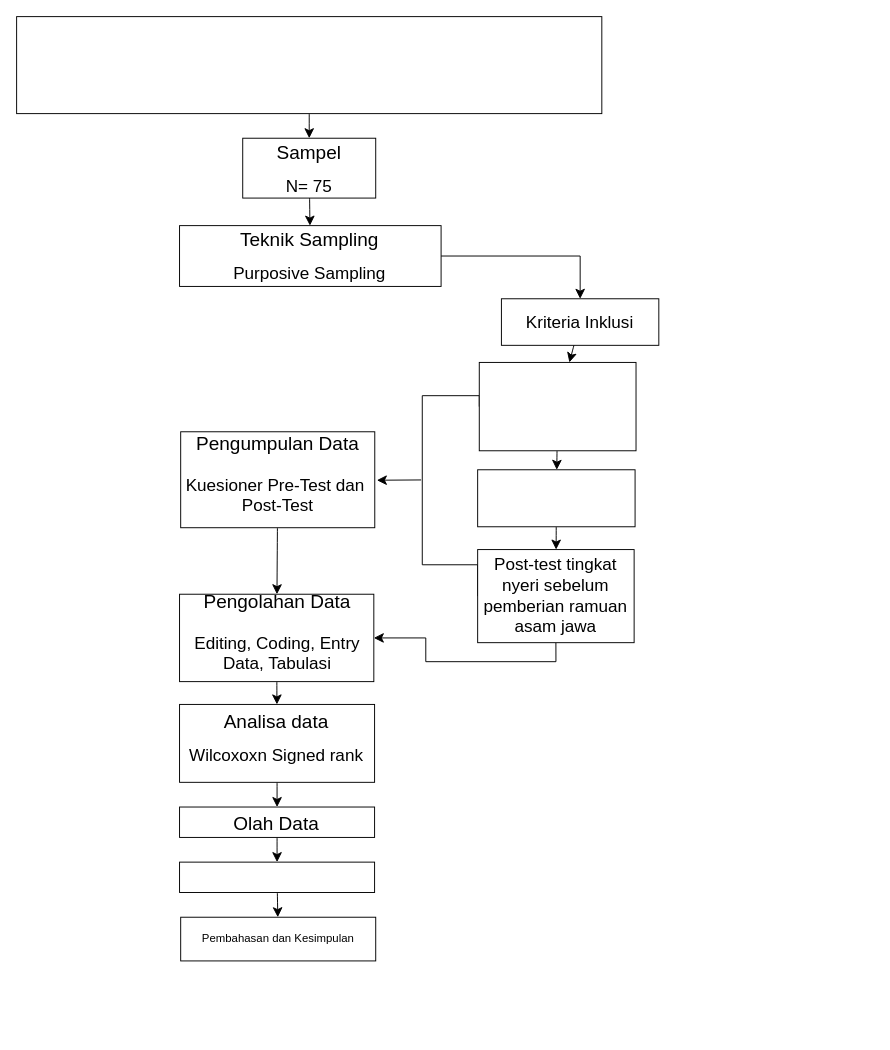
This 890x1050 diagram has some shape labels left out. The box of each missing label's shape, as (x1, y1, x2, y2) in pixels:
Hasil: (179, 861, 375, 893)
Pemberian ramuan asam jawa: (477, 469, 635, 527)
Populasi Penelitian Siswi SMPN 1 Rambipuji yaitu sebanyak N= 93 siswi: (16, 16, 602, 114)
Pre-test tingkat nyeri sebelum pemberian ramuan asam jawa: (478, 361, 636, 451)
